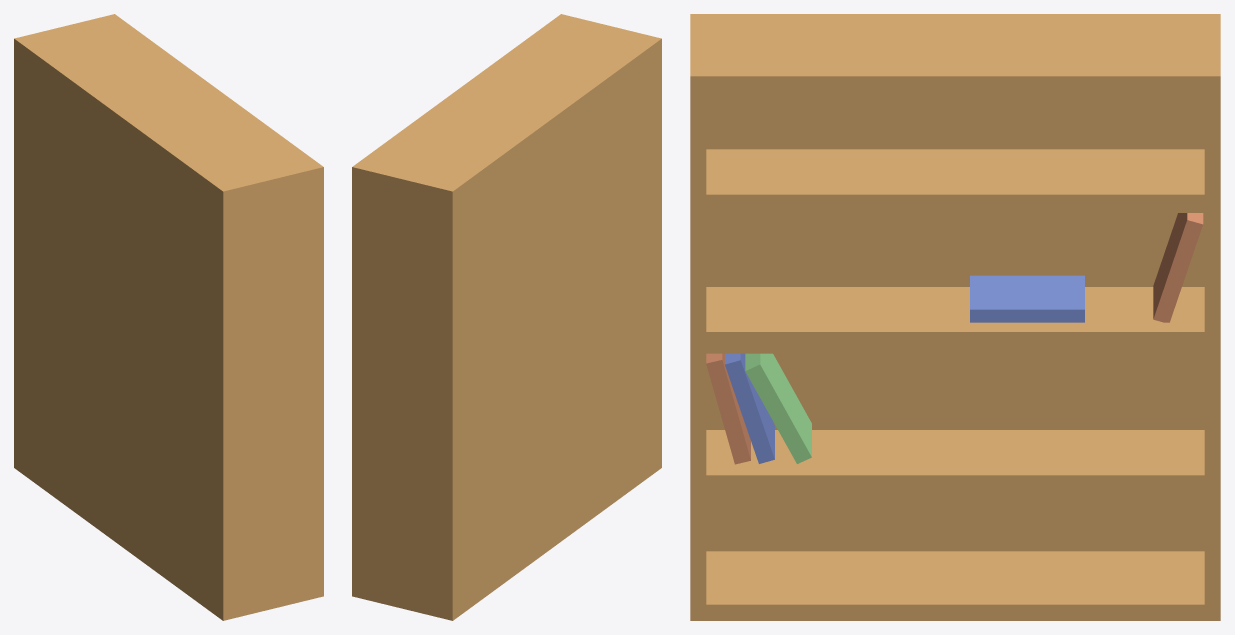
File: bookShelf 1.fbx
3 views of the same model, side by side, from view 1: azimuth 30°, elevation 25°; view 2: azimuth 150°, elevation 25°; view 3: azimuth 270°, elevation 25° (orthographic). The views are drawn at different scales.
Visible parts, largest first — view 1: Cube; view 2: Cube; view 3: Cube, Cube.005, Cube.003, Cube.004, Cube.002, Cube.001.
Part boxes in pixels (bbox=[...]): Cube: bbox=[14, 14, 323, 620]; Cube: bbox=[352, 14, 661, 620]; Cube: bbox=[690, 14, 1220, 620]; Cube.005: bbox=[970, 275, 1084, 322]; Cube.003: bbox=[745, 353, 811, 463]; Cube.004: bbox=[1153, 213, 1203, 322]; Cube.002: bbox=[725, 353, 774, 463]; Cube.001: bbox=[706, 353, 750, 464].
Size of the model in its own units: 426 by 1735 by 1531.
